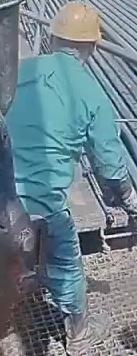helmet: (49, 1, 102, 48)
vest: (12, 51, 131, 219)
